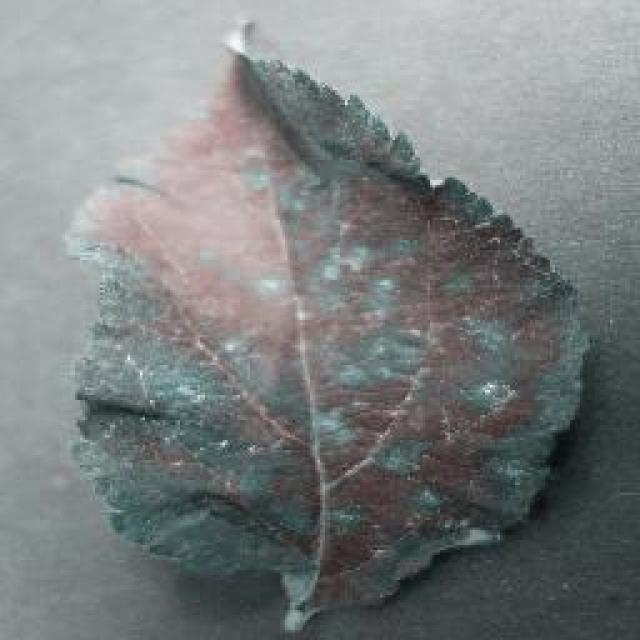apple rust disease: (65, 20, 593, 632)
